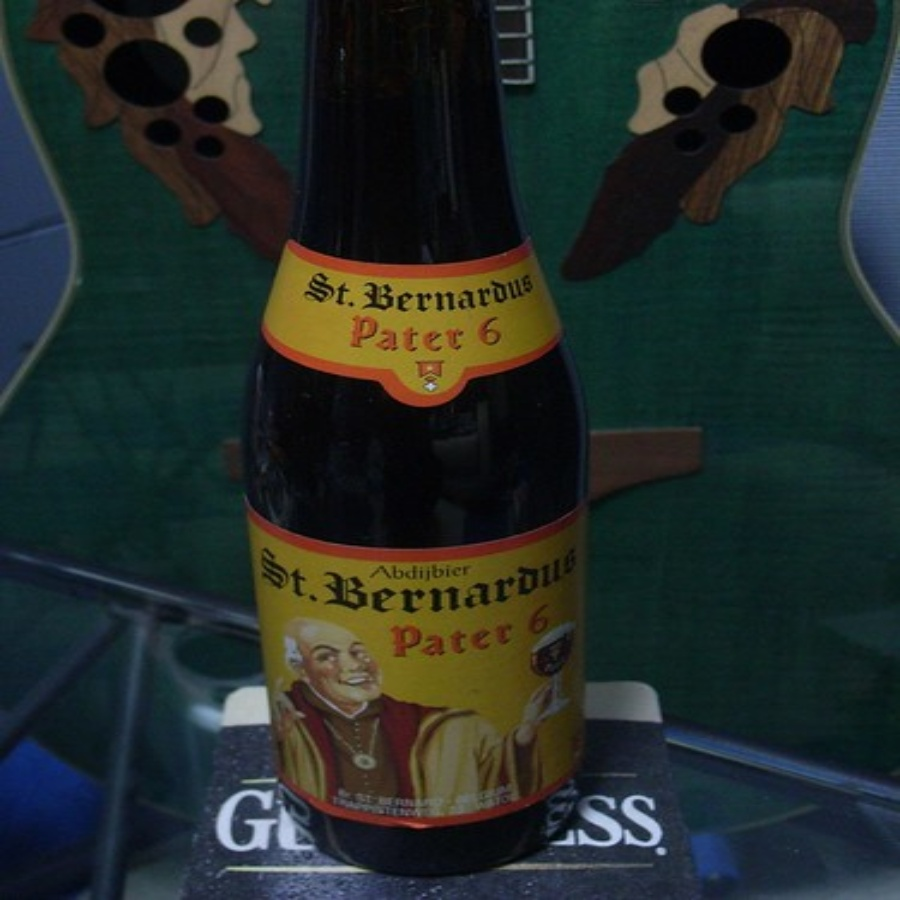beer: (243, 1, 597, 867)
